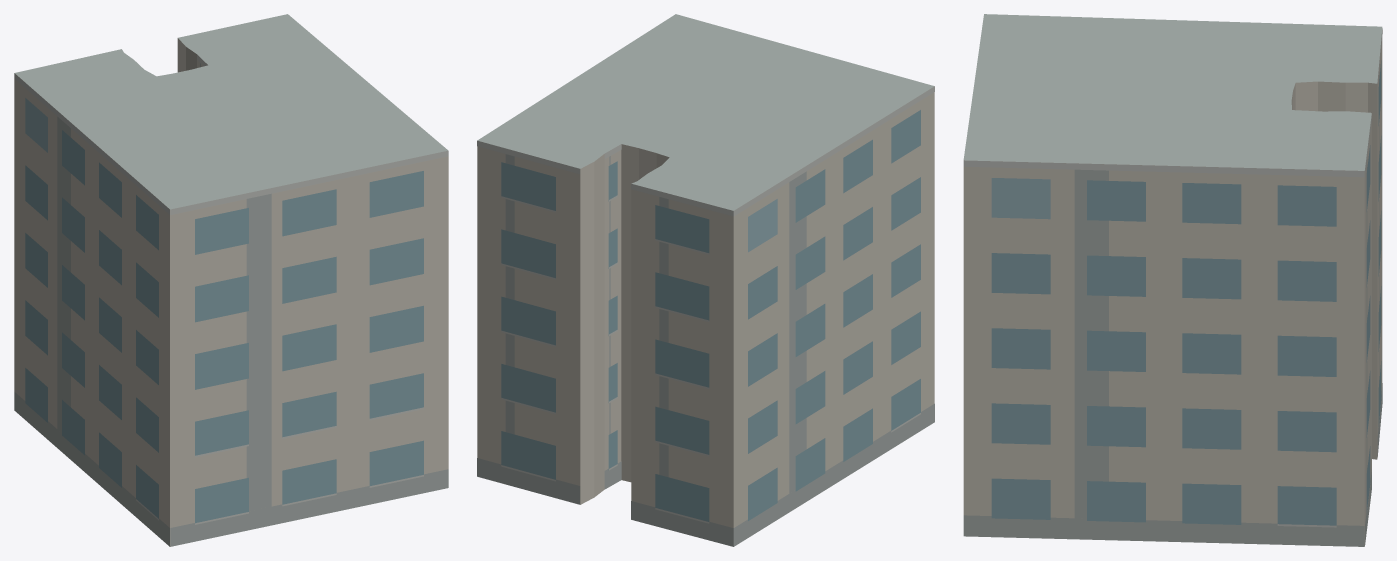
Rendered from survey-upis-32894379.glb.
The picture shows the model from 3 angles, left to right: view 1: azimuth 30°, elevation 25°; view 2: azimuth 150°, elevation 25°; view 3: azimuth 270°, elevation 25°; orthographic projection. The views are drawn at different scales.
Visible parts, largest first — view 1: survey-upis-32894379.tmp; view 2: survey-upis-32894379.tmp; view 3: survey-upis-32894379.tmp.
Boxes of the visible parts, left/top/right/bottom form: survey-upis-32894379.tmp: left=14, top=14, right=448, bottom=546; survey-upis-32894379.tmp: left=477, top=14, right=934, bottom=546; survey-upis-32894379.tmp: left=963, top=14, right=1382, bottom=546.
Bounding box in the file's own units: 12.99 × 14.5 × 14.66.
